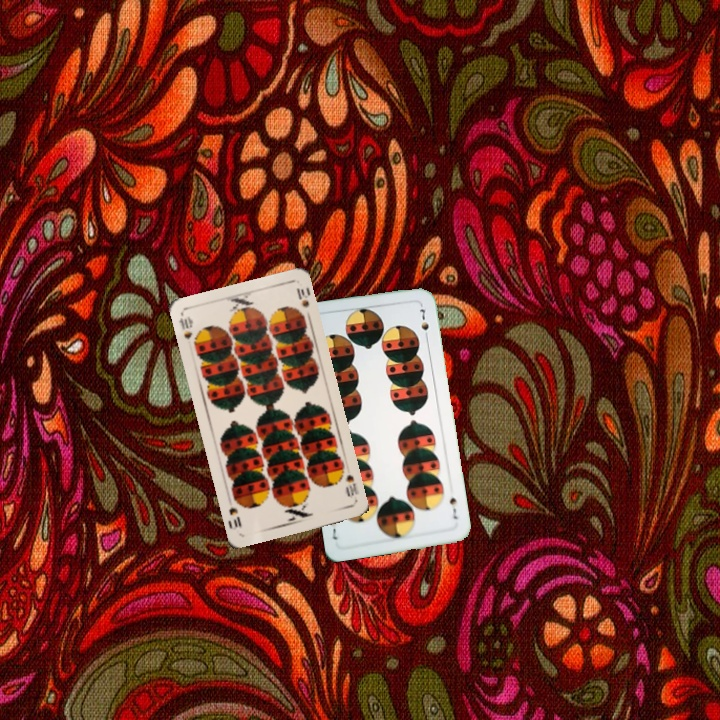S10: (175, 311, 195, 343), (341, 471, 362, 500)
S7: (445, 493, 460, 522)
